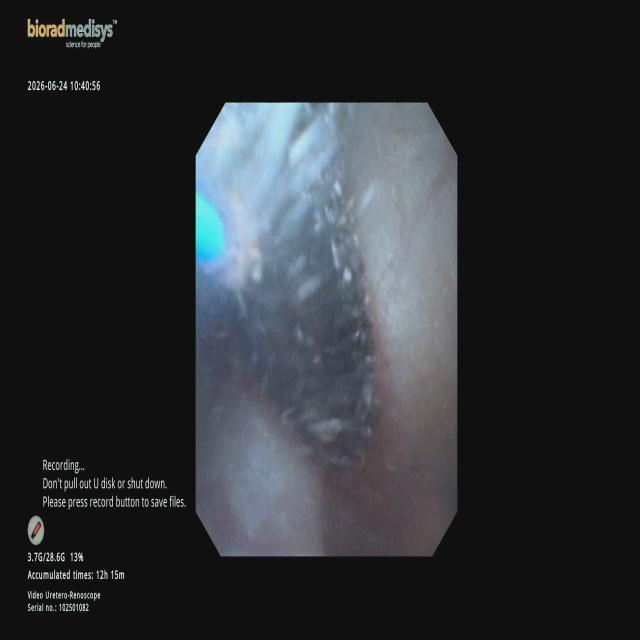stone-new: (196, 103, 378, 465)
